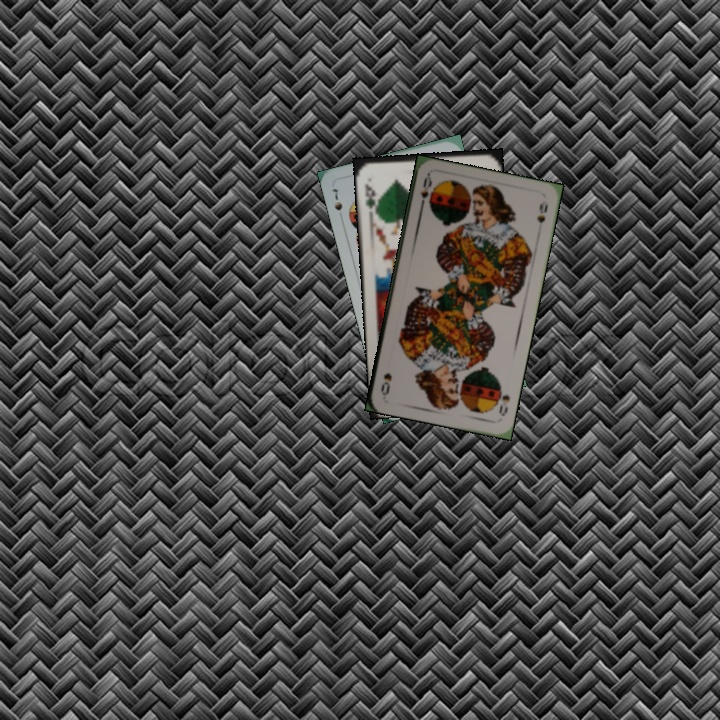GK: (361, 179, 379, 213)
S7: (327, 185, 345, 213)
SO: (416, 173, 435, 212), (493, 381, 513, 418)
